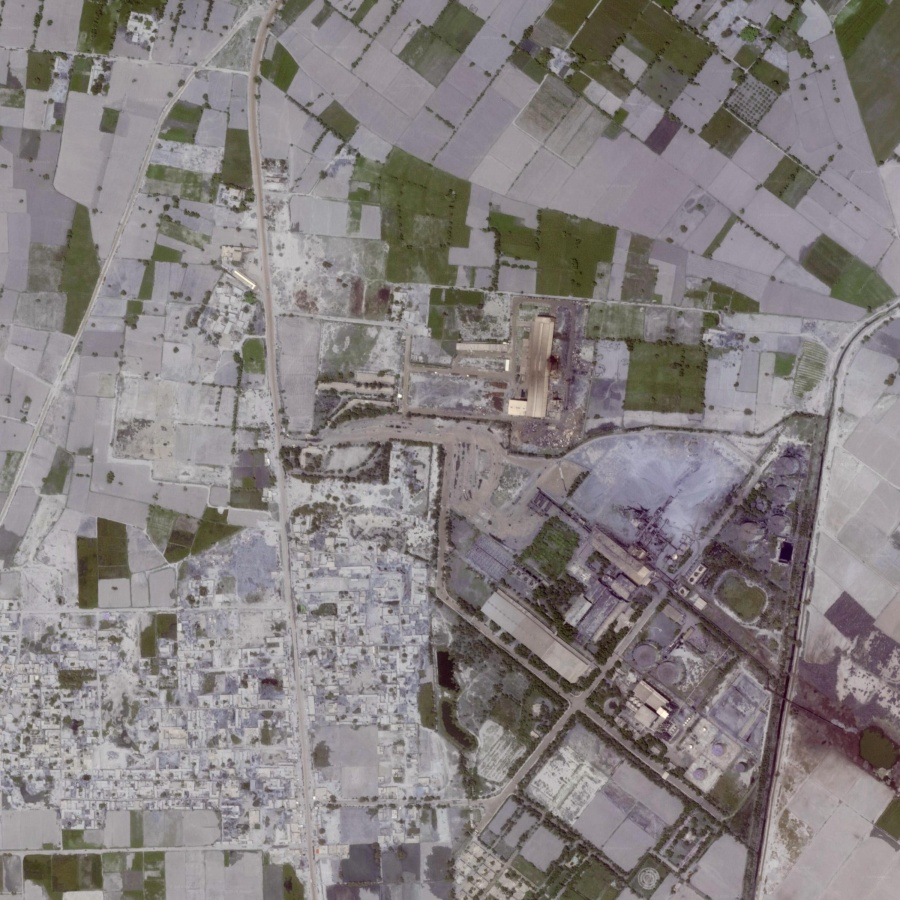PowerPlant: (579, 571, 769, 789)
